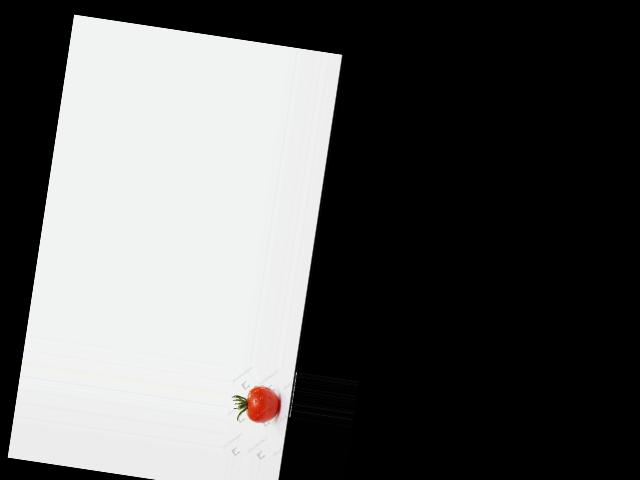tomato: (244, 385, 281, 425)
